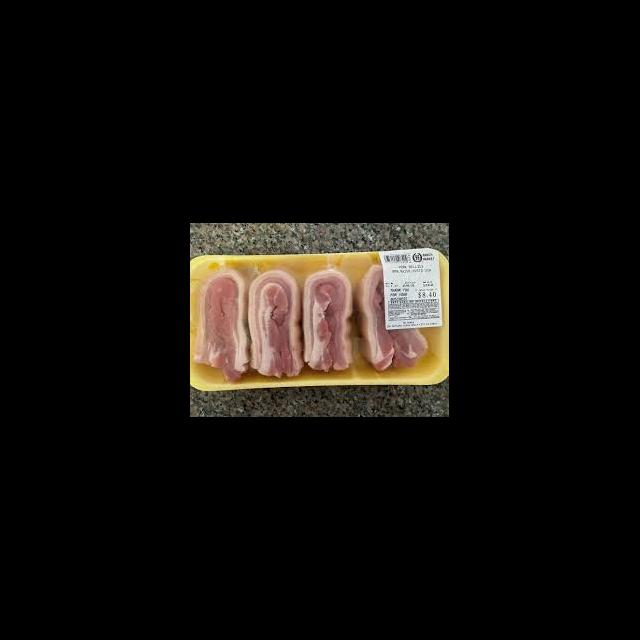pork: (246, 267, 302, 375), (195, 270, 246, 382), (303, 267, 352, 372), (357, 263, 386, 372)
